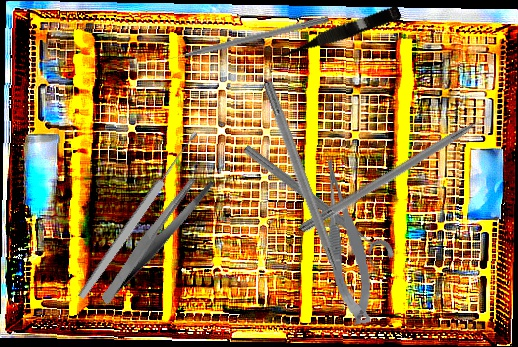Dressing Forceps: (75, 169, 236, 306)
Fixation Ring: (233, 139, 398, 275)
Hook Surgical: (259, 80, 351, 298)
Micro Scissor: (318, 155, 376, 327), (271, 1, 403, 65)
Pusher: (298, 103, 508, 236), (156, 13, 330, 66)
Surgical Spoon: (75, 129, 202, 301)
